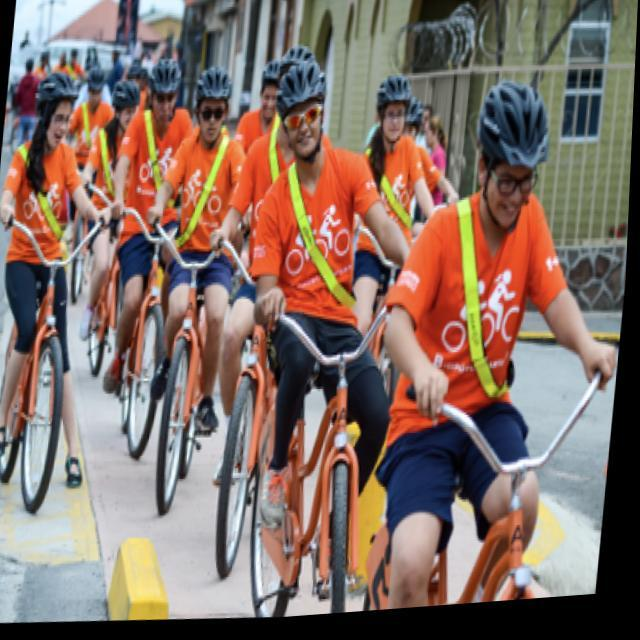Helmet: (466, 70, 553, 239), (267, 50, 330, 161)
